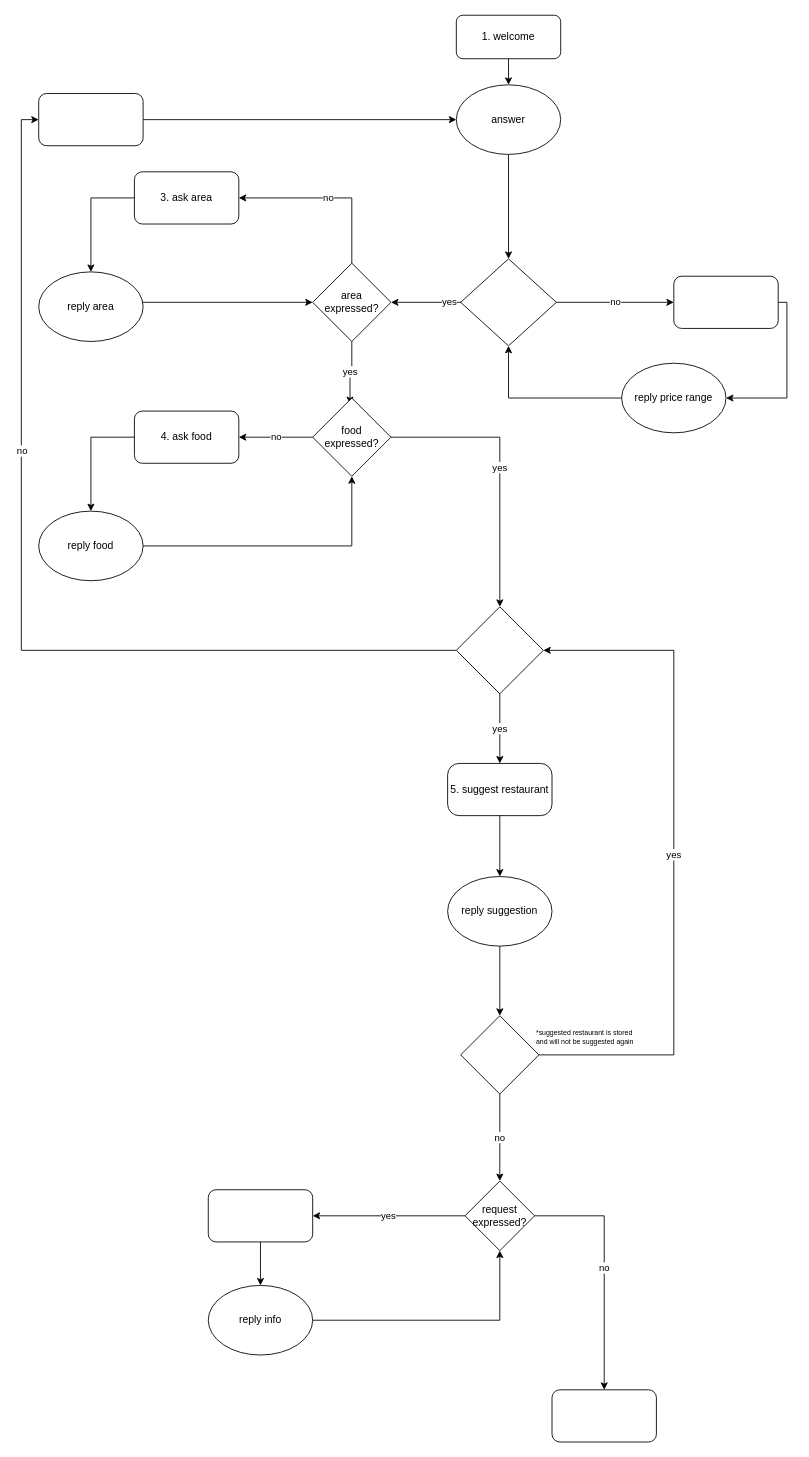
The diagram is 809 pixels wide and 1457 high, and some of its shapes have lost their labels. Each missing label, with the centre of its shape:
2. ask price range: the point at 725,301
6. give info: the point at 260,1215
7. bye: the point at 603,1415
8. inform no match: the point at 90,119
alternative requested?: the point at 499,1054
combo exists?: the point at 499,650
price range expressed?: the point at 508,302
